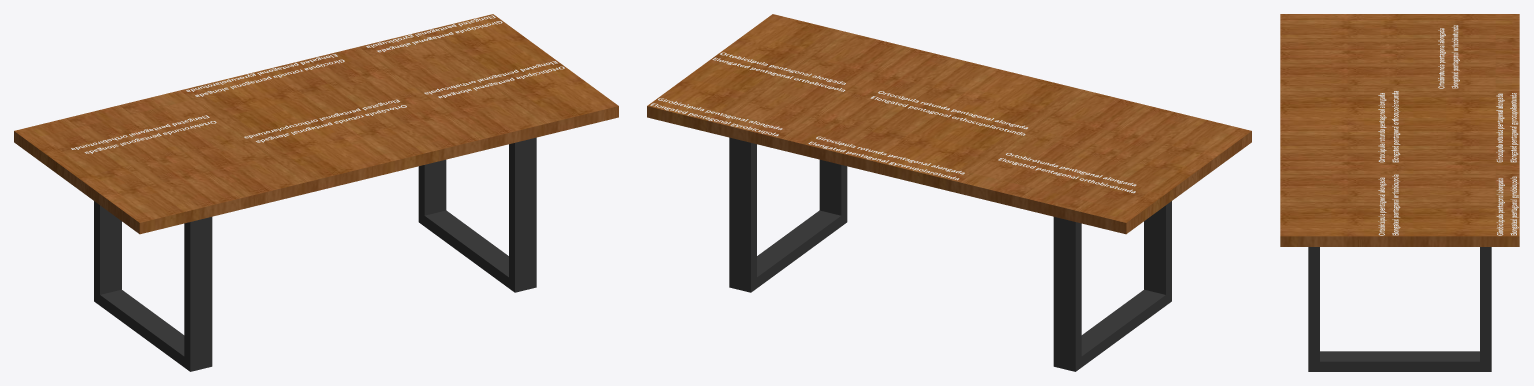
The model's file is johnson2b.glb.
The picture shows the model from 3 angles, left to right: view 1: azimuth 30°, elevation 25°; view 2: azimuth 150°, elevation 25°; view 3: azimuth 270°, elevation 25°; orthographic projection. The views are drawn at different scales.
Parts seen in each view (by area): view 1: object 1, Composant#1 (×2), Ortocúpula rotun#1, Girocúpula rotun, Ortobirotunda pe, Ortobicúpula pen#1, Girobicúpula pen#1; view 2: object 1, Composant#1 (×2), Ortocúpula rotun#1, Girocúpula rotun, Ortobirotunda pe, Girobicúpula pen#1, Ortobicúpula pen#1; view 3: object 1, Composant#1, Girocúpula rotun, Ortocúpula rotun#1, Ortobirotunda pe, Ortobicúpula pen#1, Girobicúpula pen#1.
Part boxes in pixels (bbox=[...]): object 1: bbox=[14, 14, 618, 234]; Composant#1 (×2): bbox=[94, 137, 536, 371]; Ortocúpula rotun#1: bbox=[244, 99, 406, 142]; Girocúpula rotun: bbox=[186, 54, 344, 96]; Ortobirotunda pe: bbox=[71, 115, 216, 153]; Ortobicúpula pen#1: bbox=[424, 61, 564, 98]; Girobicúpula pen#1: bbox=[366, 15, 502, 52]; object 1: bbox=[647, 14, 1251, 234]; Composant#1 (×2): bbox=[729, 137, 1171, 371]; Ortocúpula rotun#1: bbox=[870, 91, 1027, 135]; Girocúpula rotun: bbox=[808, 136, 964, 180]; Ortobirotunda pe: bbox=[998, 153, 1136, 193]; Girobicúpula pen#1: bbox=[650, 98, 782, 136]; Ortobicúpula pen#1: bbox=[712, 52, 845, 91]; object 1: bbox=[1280, 14, 1519, 246]; Composant#1: bbox=[1308, 247, 1491, 371]; Girocúpula rotun: bbox=[1496, 93, 1518, 162]; Ortocúpula rotun#1: bbox=[1378, 91, 1400, 162]; Ortobirotunda pe: bbox=[1438, 25, 1459, 88]; Ortobicúpula pen#1: bbox=[1378, 174, 1400, 235]; Girobicúpula pen#1: bbox=[1496, 176, 1518, 235].
Bounding box in the file's own units: 2.2 × 0.771 × 1.
Materials: 3 (1 with a texture image).
